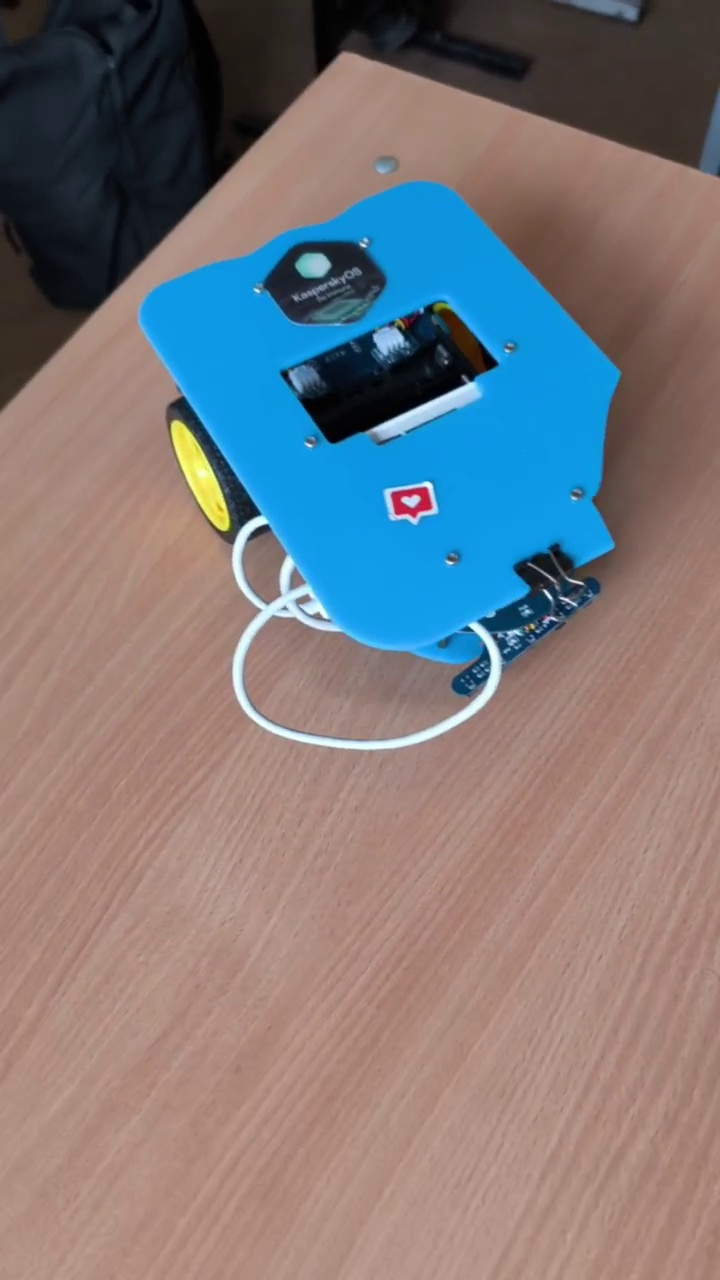robot: (136, 180, 627, 751)
